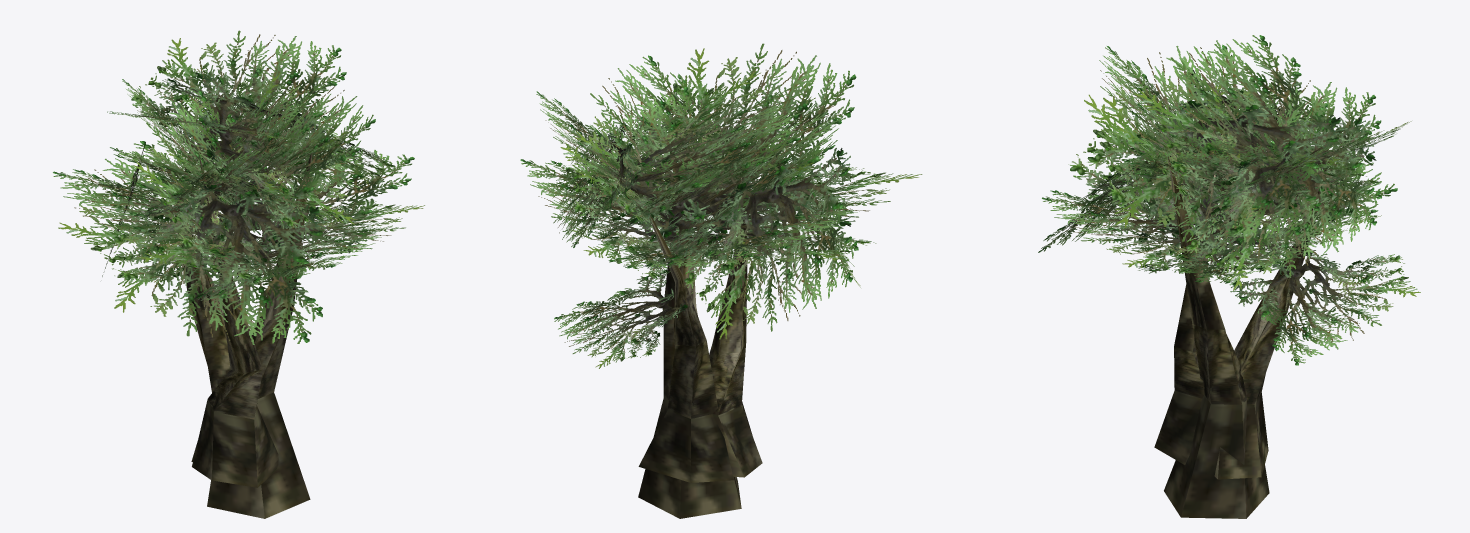
Rendered from olive_02.glb.
3 views of the same model, side by side, from view 1: azimuth 30°, elevation 25°; view 2: azimuth 150°, elevation 25°; view 3: azimuth 270°, elevation 25° (orthographic). The views are drawn at different scales.
Bounding box in the file's own units: 14.53 × 14.13 × 13.82.
1 material, 1 textured.
